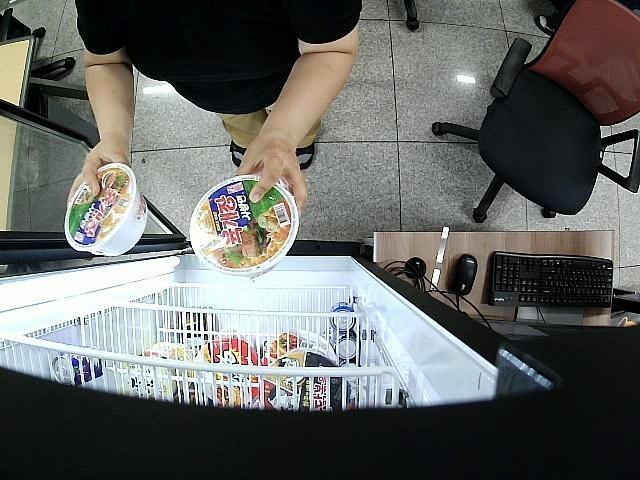09_yukGaeJang: (188, 177, 298, 279), (66, 162, 146, 256)
